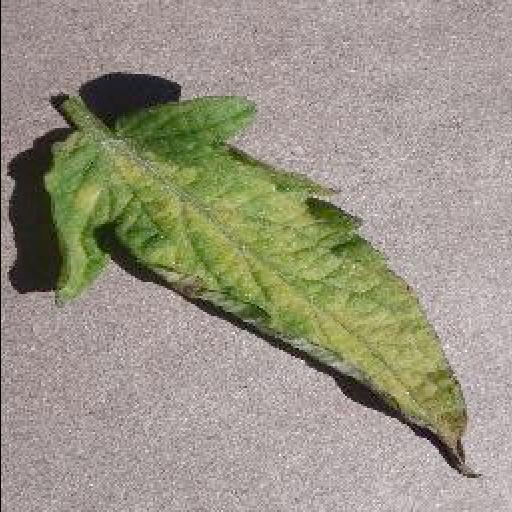disease_tomato: (46, 99, 468, 443)
